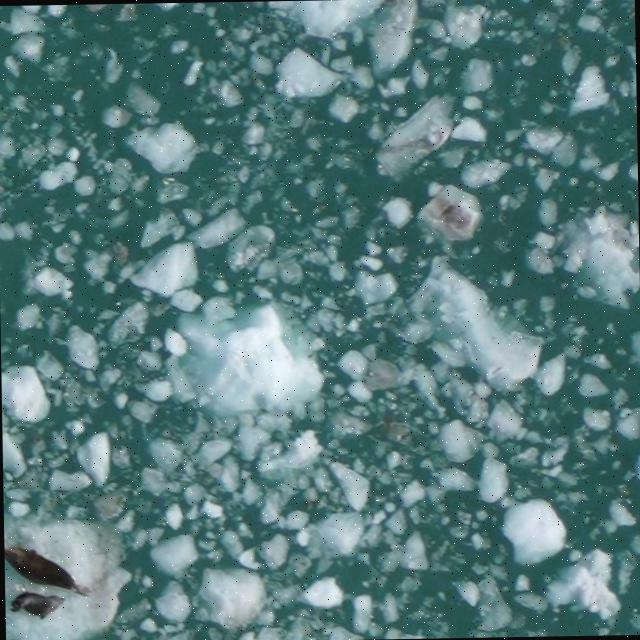seal: (0, 535, 97, 616), (8, 590, 64, 621)
